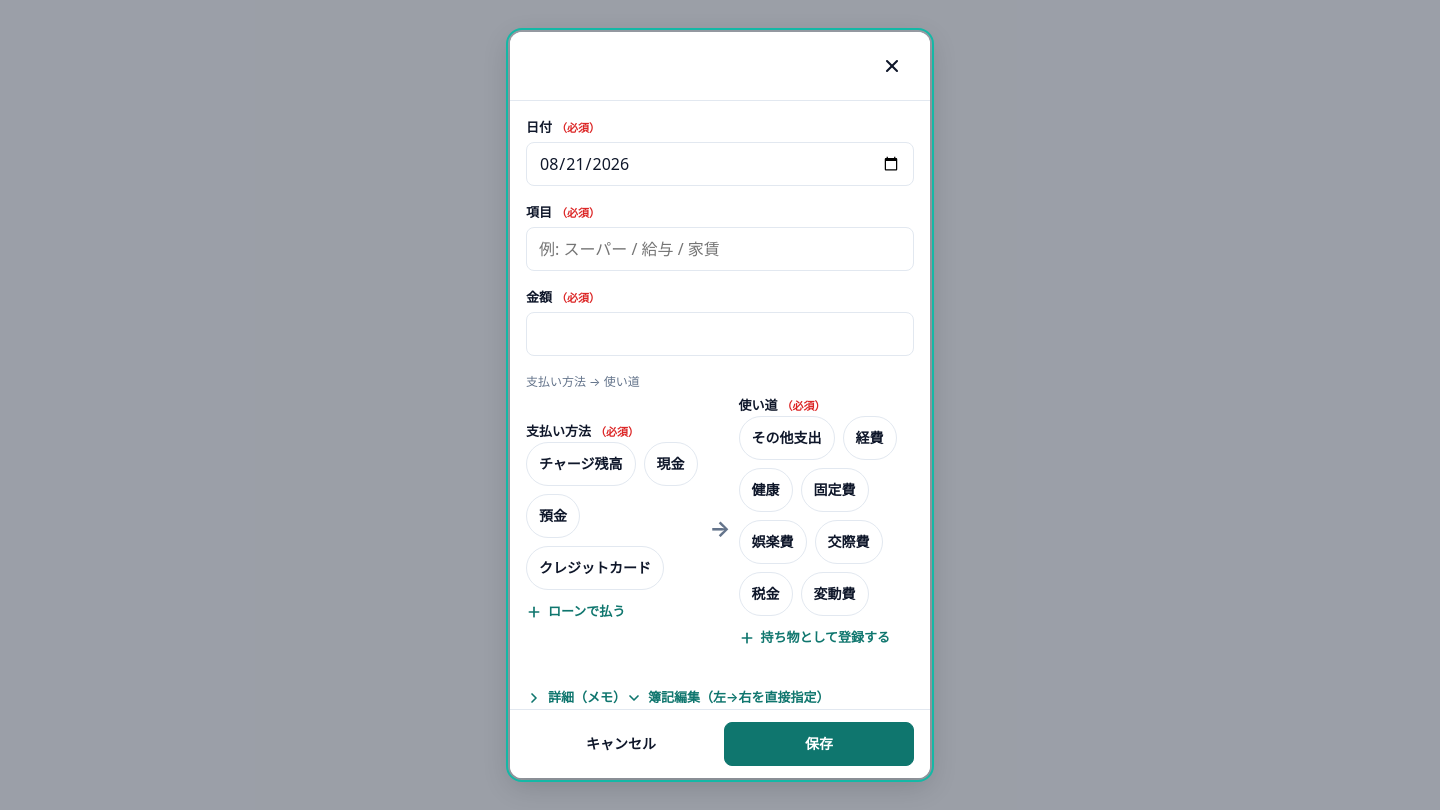
ローンで払う（支出シート） › 保存で負債科目・購入の仕訳・返済ルールが 1 tx で生まれる
Expected: the radio button labelled "その他支出" is shown, [738,416,834,460]
Type "自動車" into the field labelled "項目（必須）" at (720, 249), box [526,227,914,271]
Type "1200000" into the field labelled "金額（必須）" at (720, 334), box [526,312,914,356]
Click the radio button labelled "その他支出" at (786, 438), box [738,416,834,460]
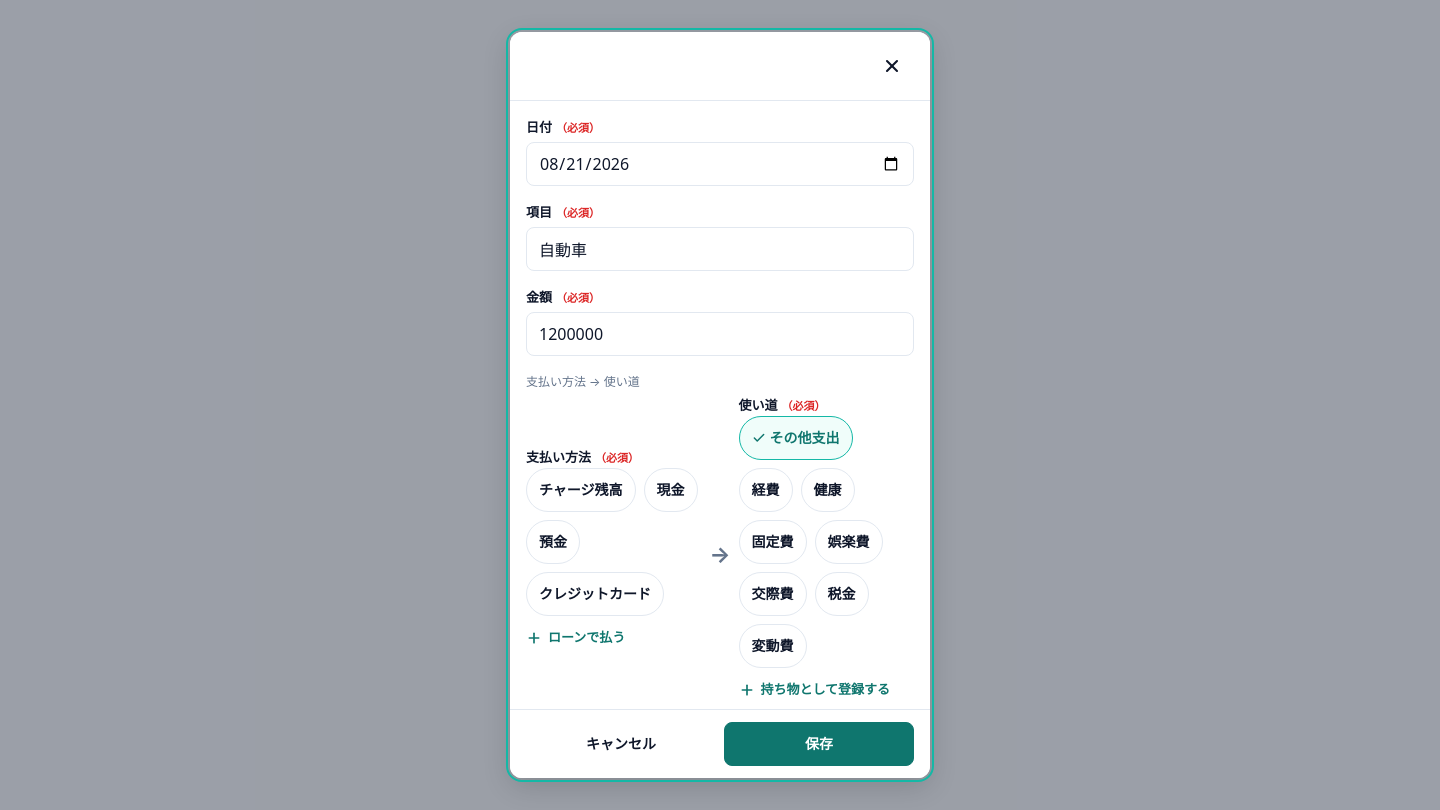
Click the button "ローンで払う" at (576, 638), box [526,616,625,660]
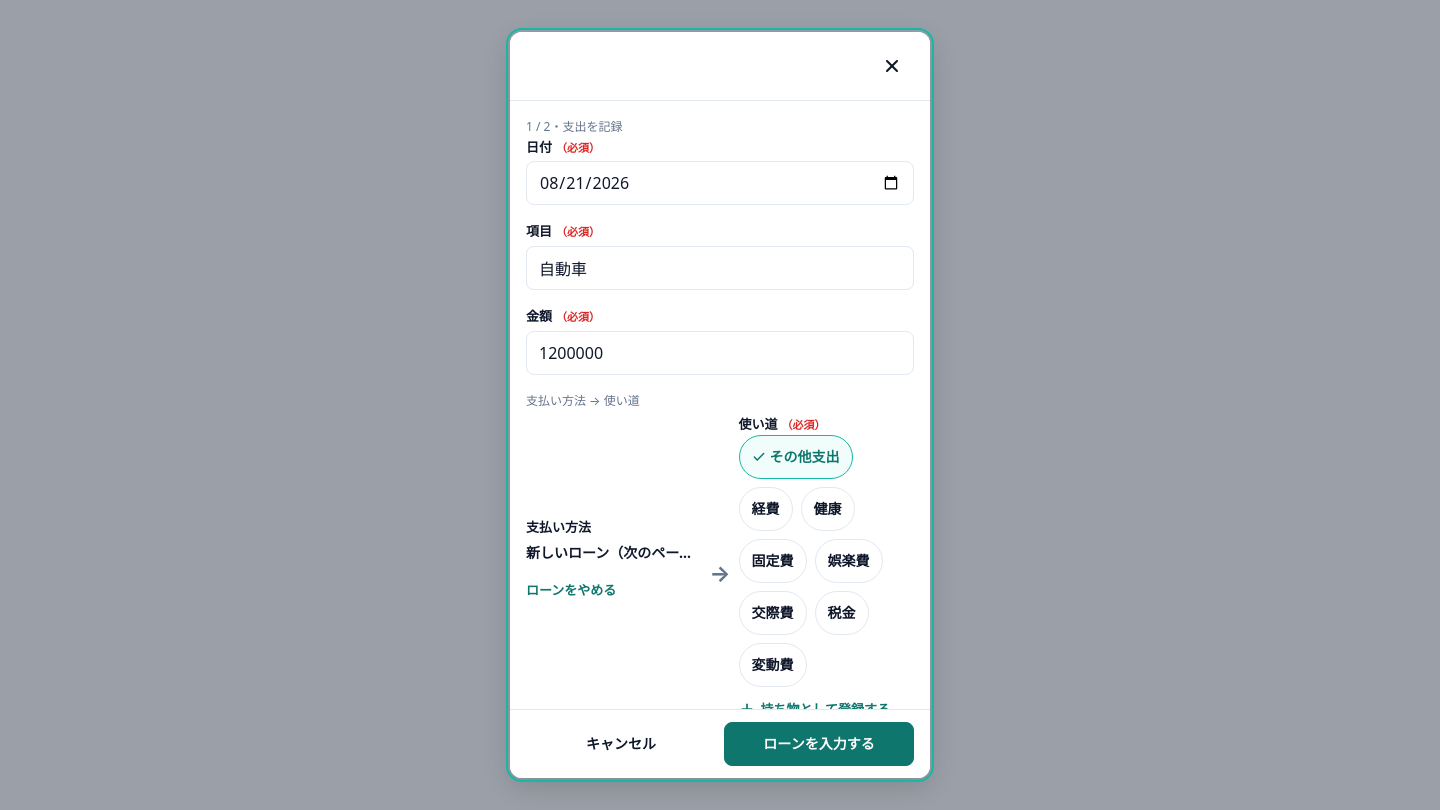
Click the button "ローンを入力する" at (819, 744), box [724,722,914,766]
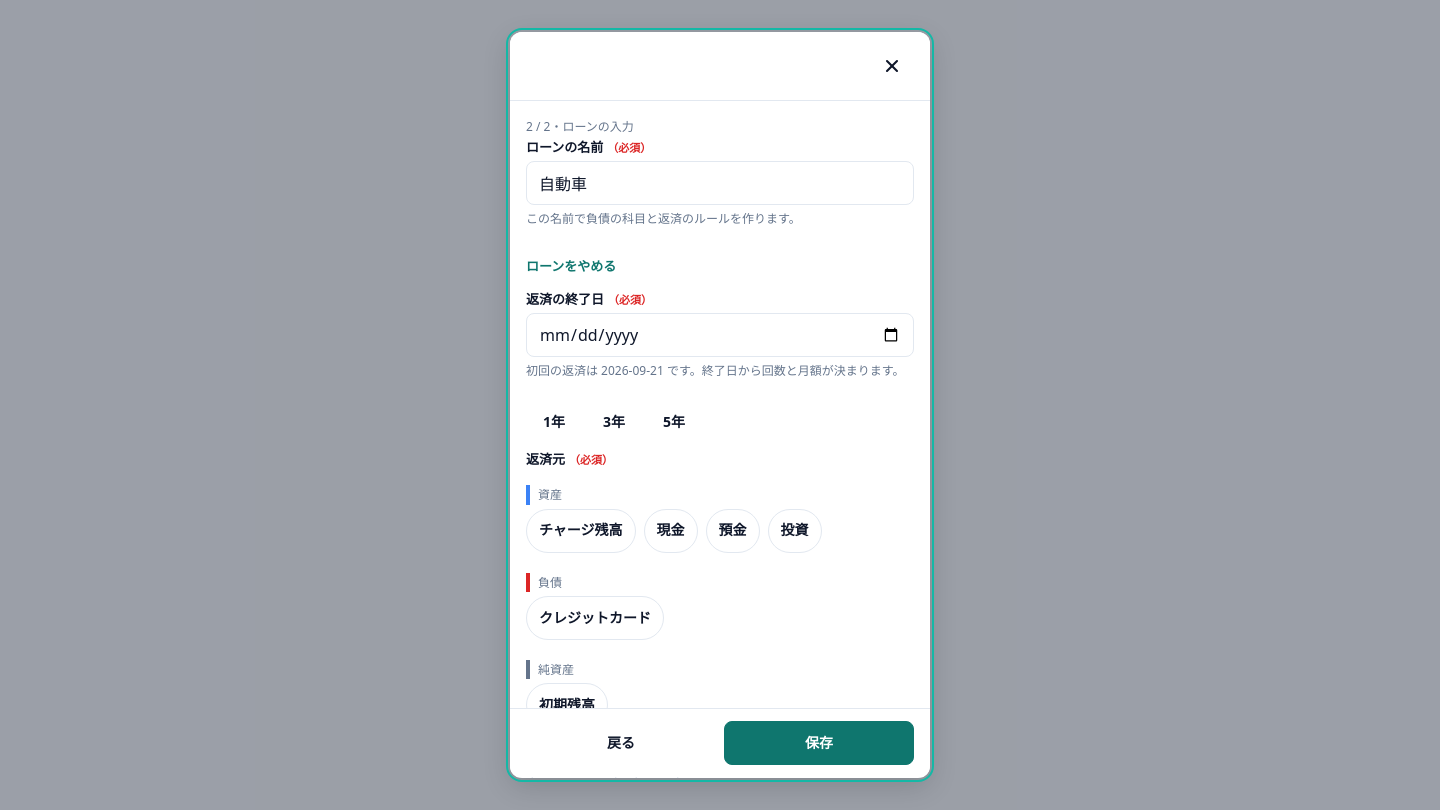
Click the button "1年" at (554, 423), box [526,401,582,445]
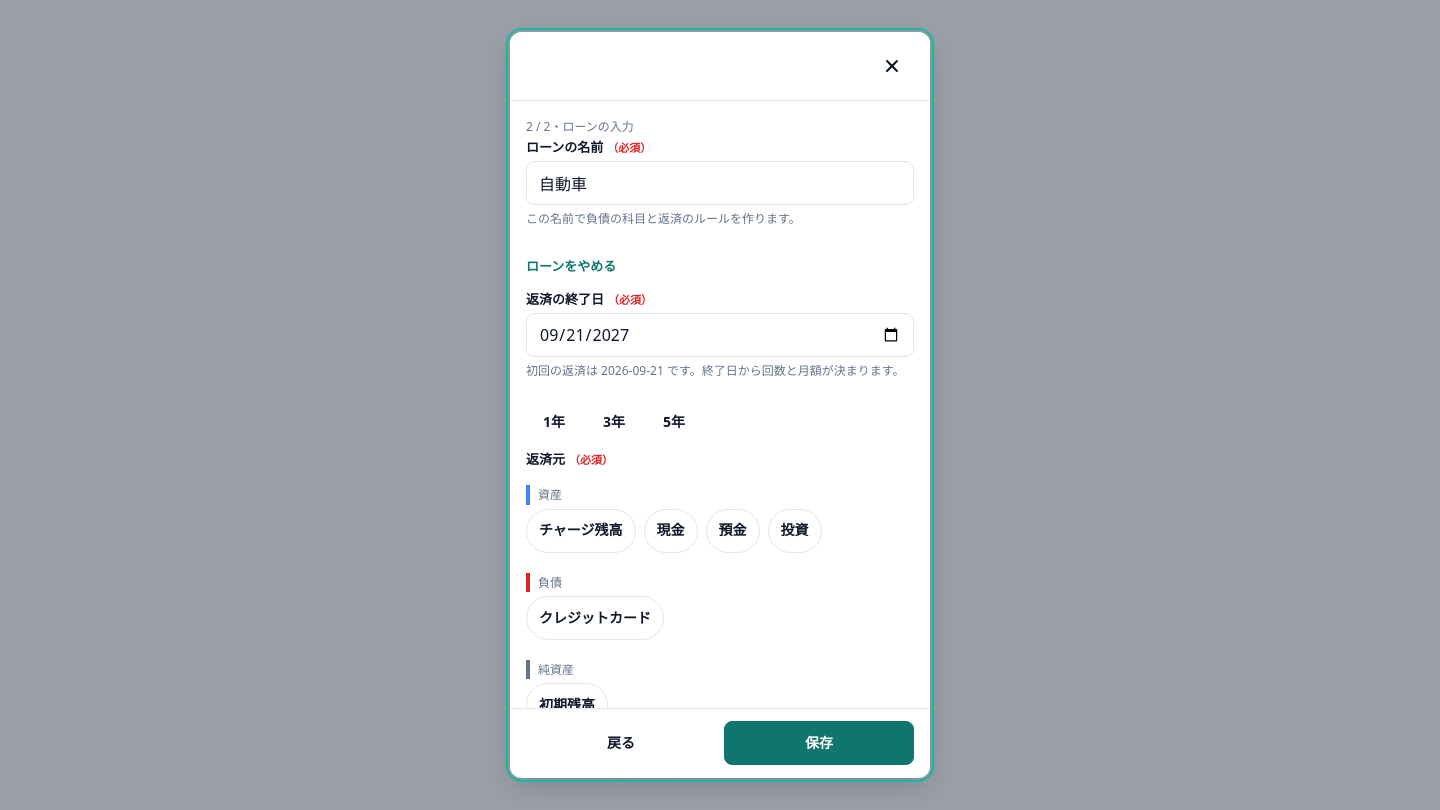
Click the radio button labelled "現金" at (671, 530), box [644,508,698,552]
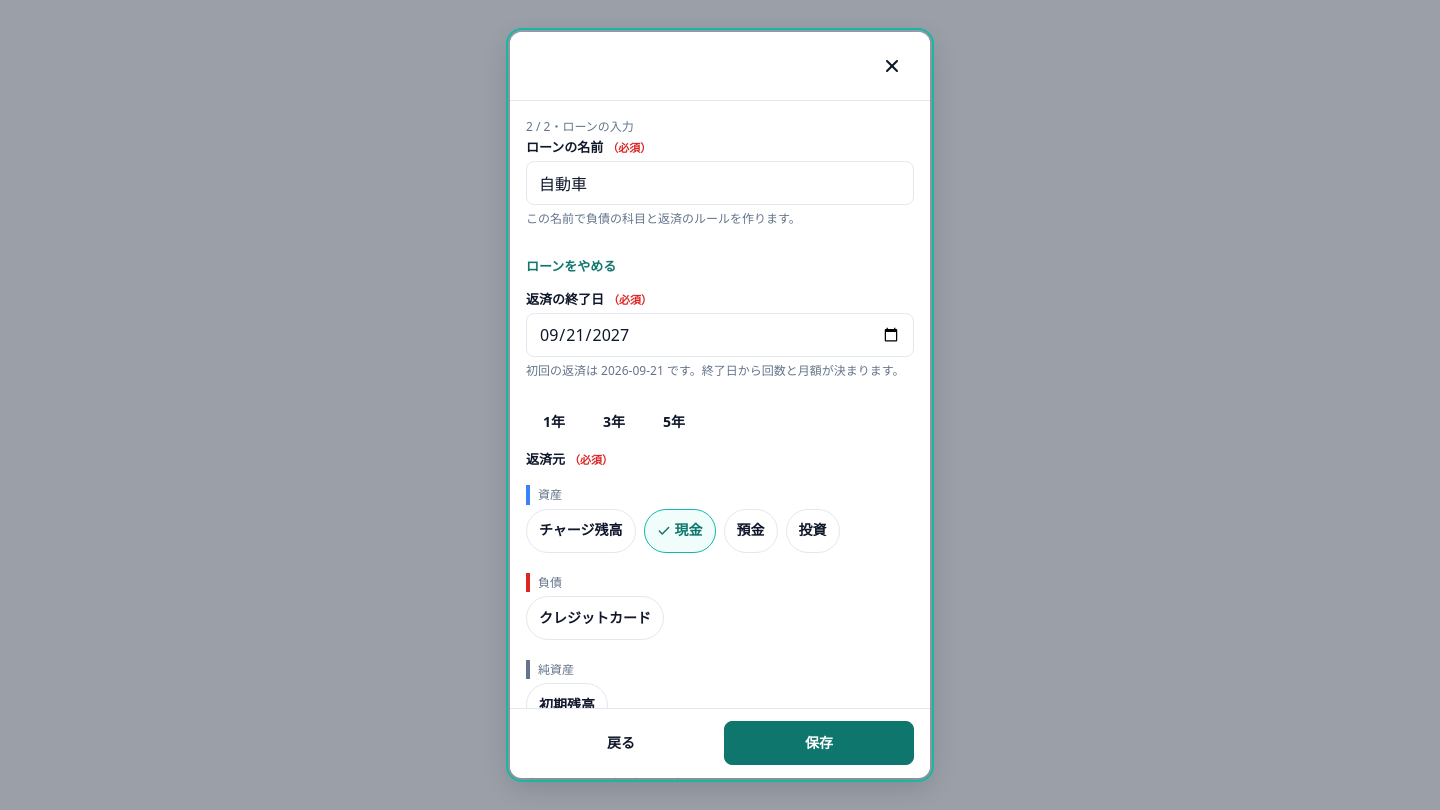
Click the button "保存" at (819, 744), box [724,722,914,766]
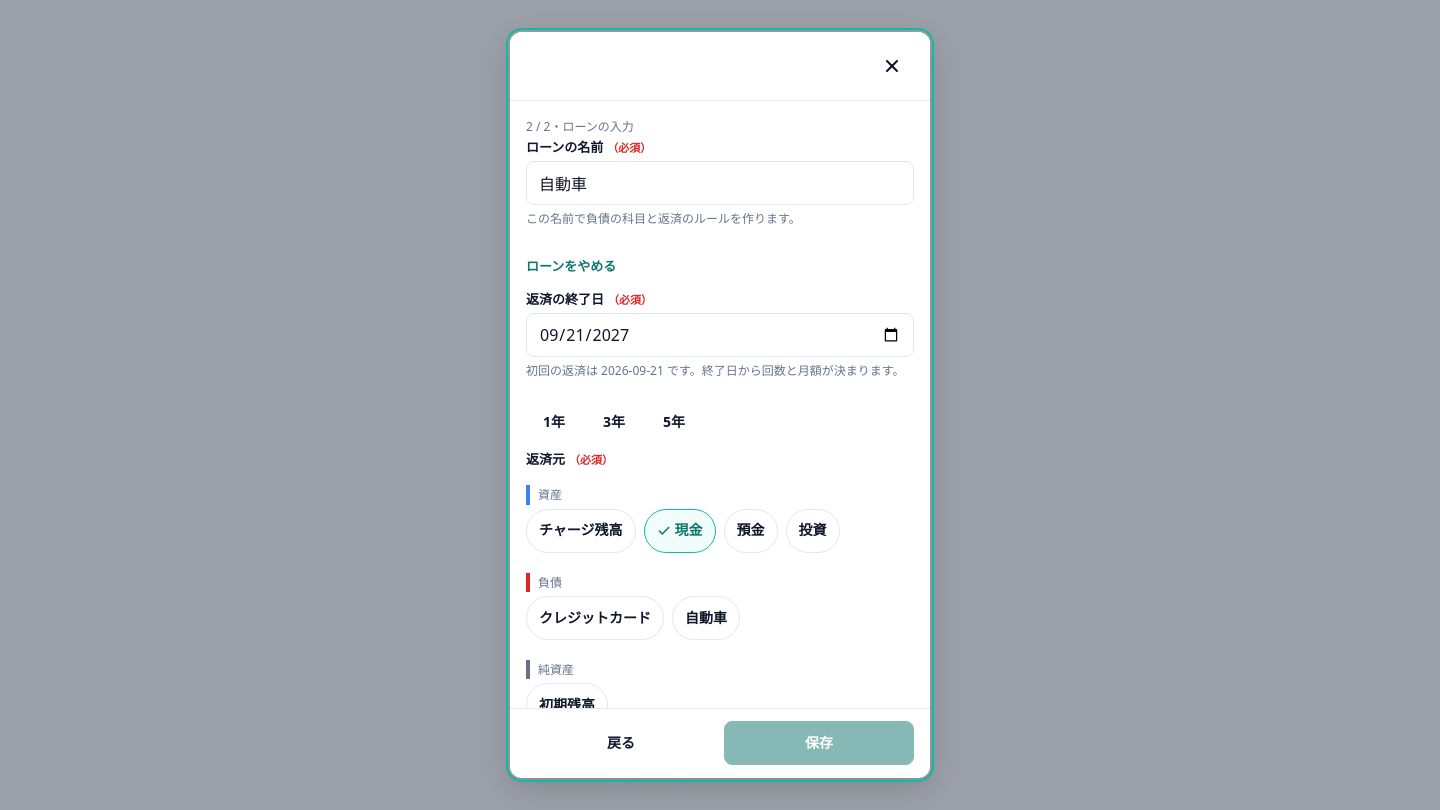
Expected: the text "自動車" is shown, [685,606,727,629]
